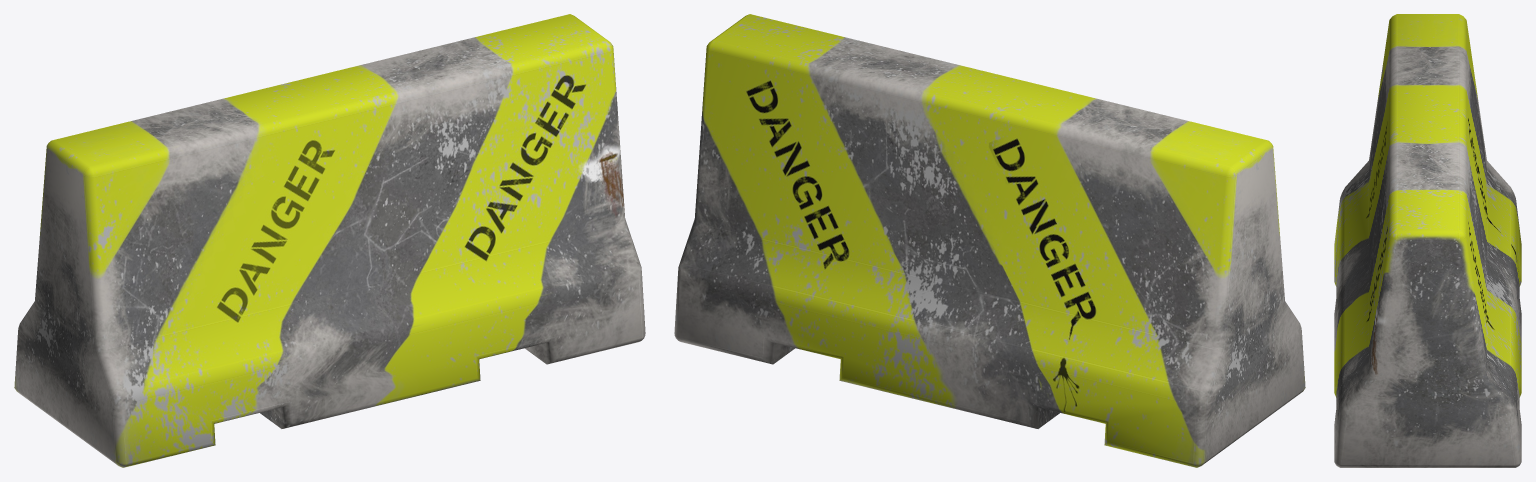
Rendered from danger.glb.
3 renders of one model, left to right at view 1: azimuth 30°, elevation 25°; view 2: azimuth 150°, elevation 25°; view 3: azimuth 270°, elevation 25°, orthographic. The views are drawn at different scales.
Parts seen in each view (by area): view 1: Cube.001_2; view 2: Cube.001_2; view 3: Cube.001_2.
Boxes of the visible parts, bbox=[...] form: Cube.001_2: bbox=[14, 14, 645, 467]; Cube.001_2: bbox=[674, 14, 1305, 467]; Cube.001_2: bbox=[1334, 14, 1521, 467].
Bounding box in the file's own units: 1.45 × 0.7255 × 0.5186.
1 material, 1 textured.
